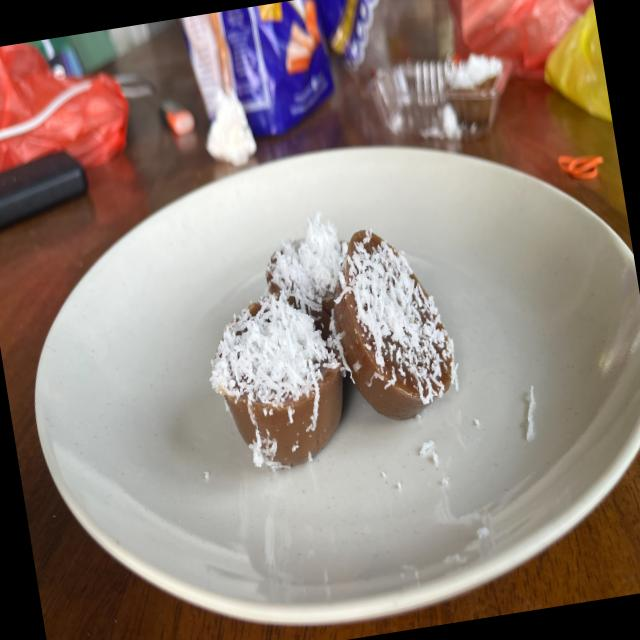Kuih lompang: (333, 229, 457, 419), (210, 292, 343, 468), (266, 212, 347, 340)
